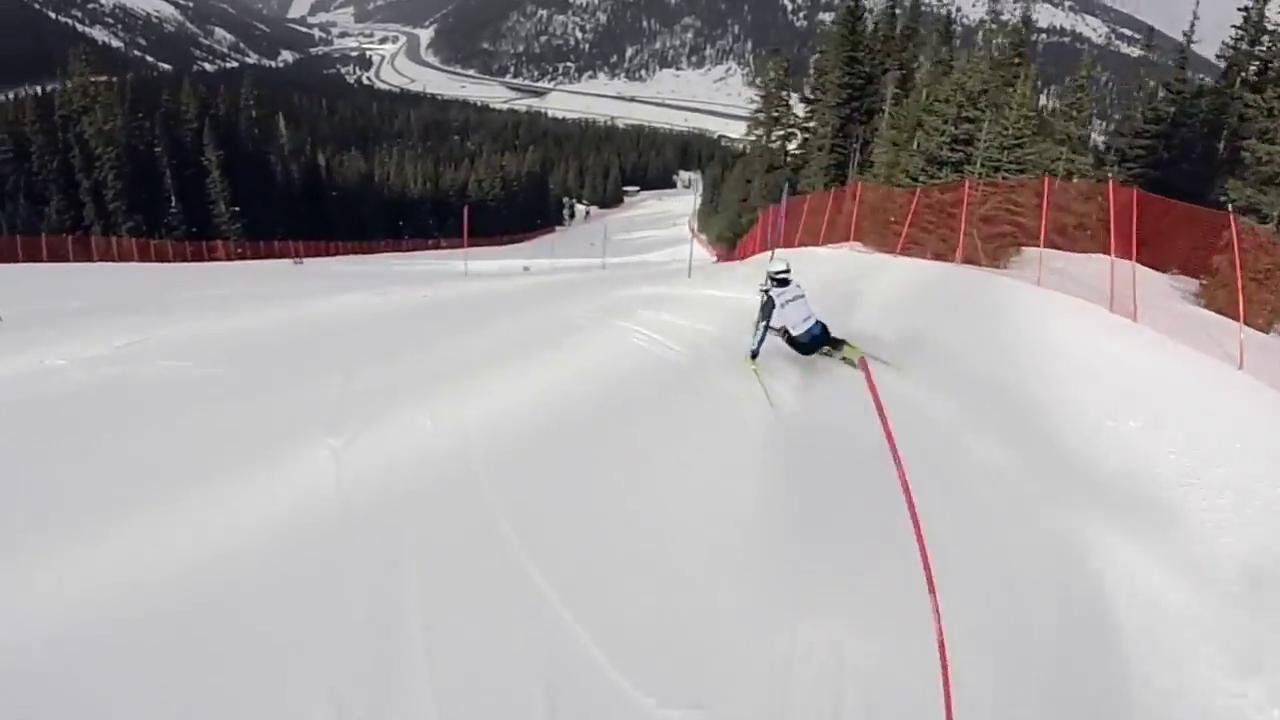gate: (856, 356, 954, 719)
